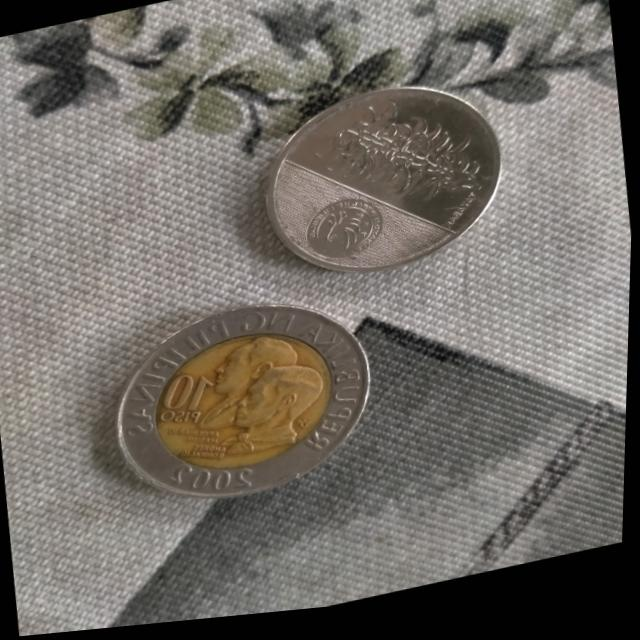10_Old_Front: (141, 364, 230, 446)
5_New_Back: (316, 90, 491, 228)
